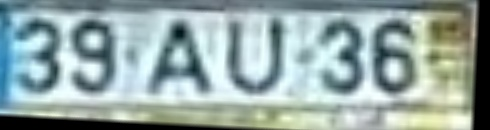3: (316, 16, 373, 103), (10, 17, 67, 100)
6: (372, 18, 423, 101)
9: (67, 18, 120, 102)
A: (139, 17, 220, 101)
U: (223, 18, 291, 104)
